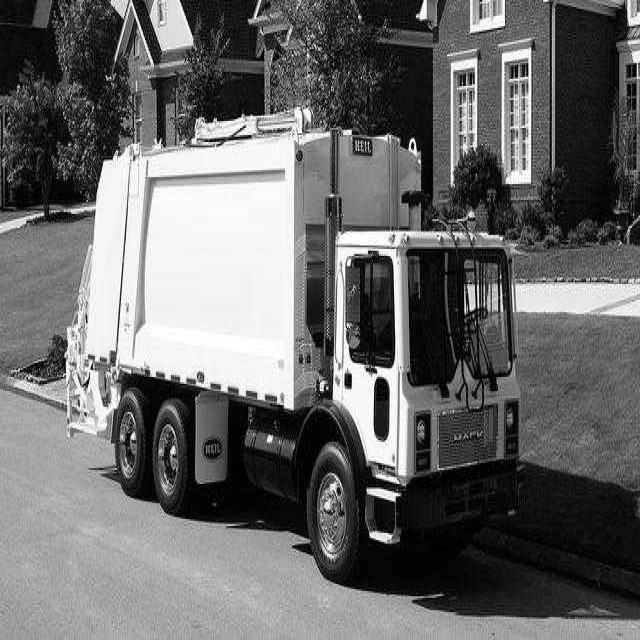Truck: (66, 112, 520, 580)
